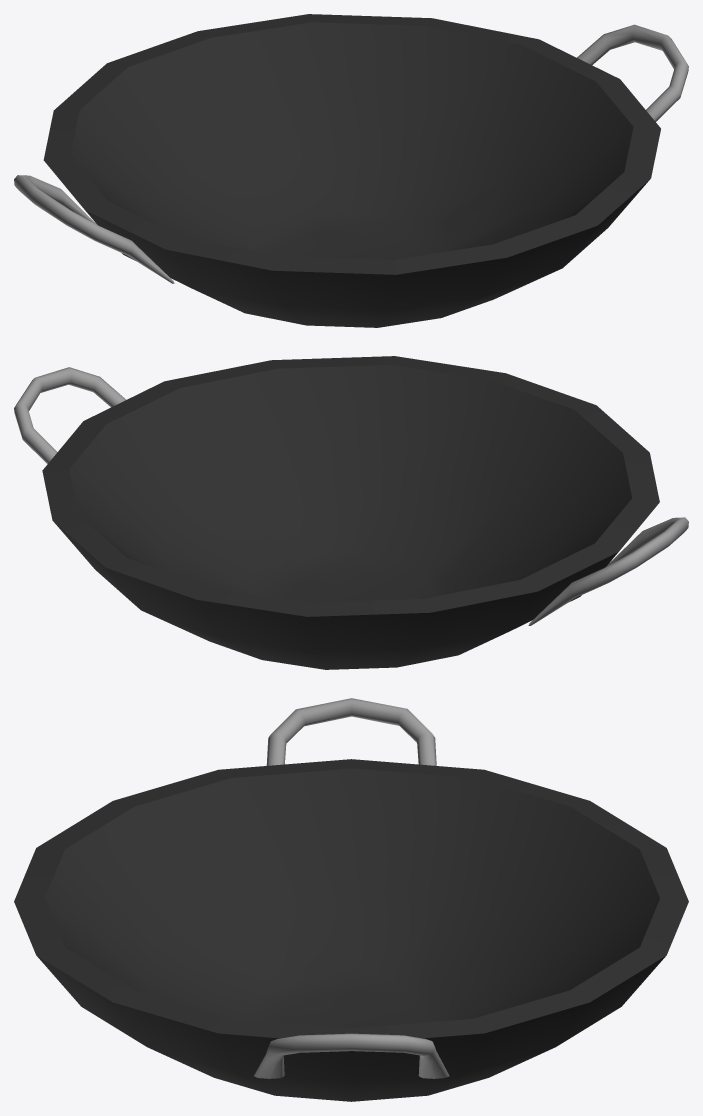
Rendered from ASFTR_Wok.fbx.
3 renders of one model, top to bottom at view 1: azimuth 30°, elevation 25°; view 2: azimuth 150°, elevation 25°; view 3: azimuth 270°, elevation 25°, orthographic. The views are drawn at different scales.
Parts seen in each view (by area): view 1: ASFTR_Wok_Base; view 2: ASFTR_Wok_Base; view 3: ASFTR_Wok_Base.
Boxes of the visible parts, box(x1,y1,x2,y2) form: ASFTR_Wok_Base: box(14, 14, 688, 327); ASFTR_Wok_Base: box(14, 356, 688, 669); ASFTR_Wok_Base: box(14, 698, 688, 1101).
Bounding box in the file's own units: 88.87 × 74.46 × 22.32.
